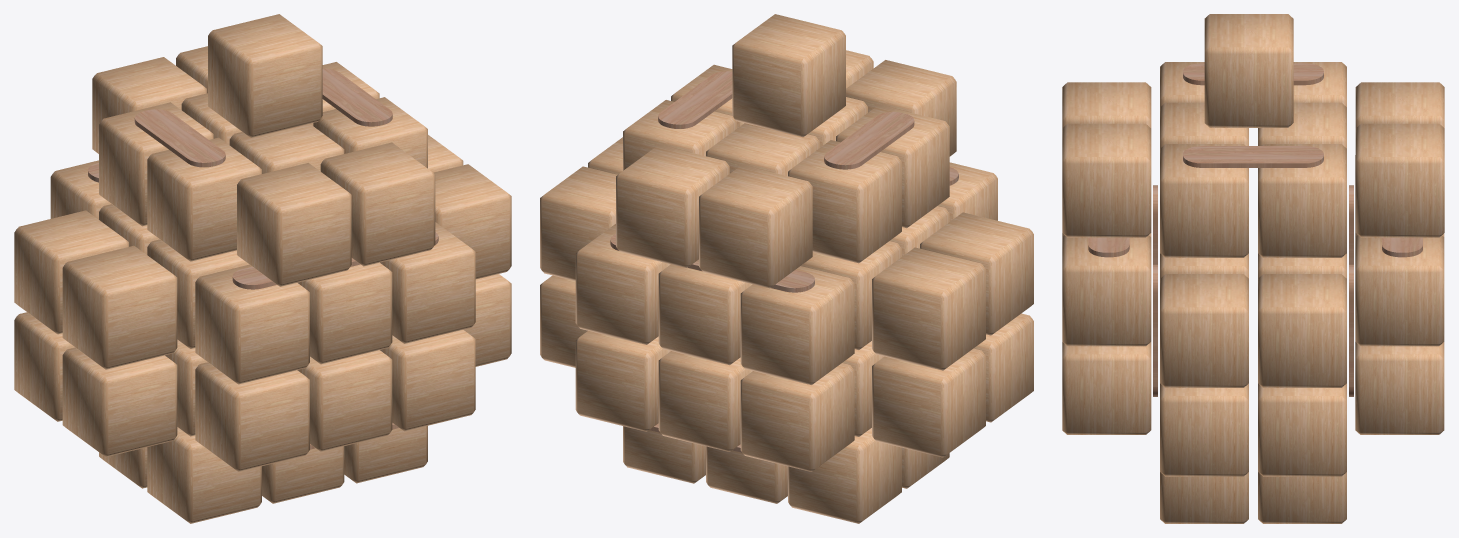
Rendered from level_66.fbx.
3 renders of one model, left to right at view 1: azimuth 30°, elevation 25°; view 2: azimuth 150°, elevation 25°; view 3: azimuth 270°, elevation 25°, orthographic. The views are drawn at different scales.
Parts seen in each view (by area): view 1: Cube.017, Cube.047, Cube.010, Cube, Cube.012, Cube.001, Cube.058, Cube.040, Cube.055, Cube.054, Cube.006, Cube.007 (+23 smaller); view 2: Cube.020, Cube.047, Cube.026, Cube.018, Cube.004, Cube.019, Cube.032, Cube.014, Cube.028, Cube.027, Cube.021, Cube.022 (+23 smaller); view 3: Cube.058, Cube.032, Cube.047, Cube.003, Cube.009, Cube.055, Cube.028, Cube.091, Cube.082, Cube.027, Cube.054, Cube.002 (+17 smaller).
Boxes of the visible parts, <box> form: Cube.017: <box>62,245,177,369</box>; Cube.047: <box>208,14,322,137</box>; Cube.010: <box>237,163,351,286</box>; Cube: <box>195,264,309,384</box>; Cube.012: <box>62,347,177,456</box>; Cube.001: <box>195,362,309,471</box>; Cube.058: <box>320,142,435,266</box>; Cube.040: <box>147,137,261,261</box>; Cube.055: <box>380,222,475,343</box>; Cube.054: <box>380,330,475,431</box>; Cube.006: <box>297,350,392,451</box>; Cube.007: <box>297,262,392,364</box>; Cube.020: <box>872,247,985,370</box>; Cube.047: <box>732,14,845,137</box>; Cube.026: <box>699,165,812,288</box>; Cube.018: <box>740,266,854,384</box>; Cube.004: <box>740,363,854,471</box>; Cube.019: <box>872,348,985,457</box>; Cube.032: <box>616,145,729,267</box>; Cube.014: <box>788,140,901,263</box>; Cube.028: <box>575,224,670,344</box>; Cube.027: <box>575,330,670,431</box>; Cube.021: <box>658,351,752,451</box>; Cube.022: <box>658,264,752,365</box>; Cube.058: <box>1062,123,1151,237</box>; Cube.032: <box>1355,123,1444,237</box>; Cube.047: <box>1204,14,1293,127</box>; Cube.003: <box>1160,274,1248,387</box>; Cube.009: <box>1258,274,1346,387</box>; Cube.055: <box>1062,235,1151,346</box>; Cube.028: <box>1355,235,1444,346</box>; Cube.091: <box>1258,144,1346,257</box>; Cube.082: <box>1160,144,1248,257</box>; Cube.027: <box>1355,342,1444,434</box>; Cube.054: <box>1062,342,1151,434</box>; Cube.002: <box>1160,383,1248,476</box>.
Size of the model in its own units: 10.8 by 10.8 by 8.6.
